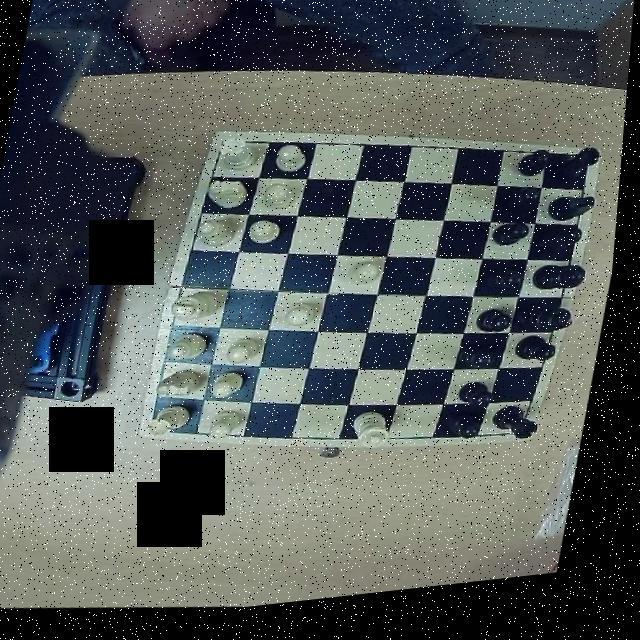chess-table-corners: (212, 135, 245, 172), (568, 160, 600, 194), (146, 407, 177, 442), (516, 426, 544, 454)
